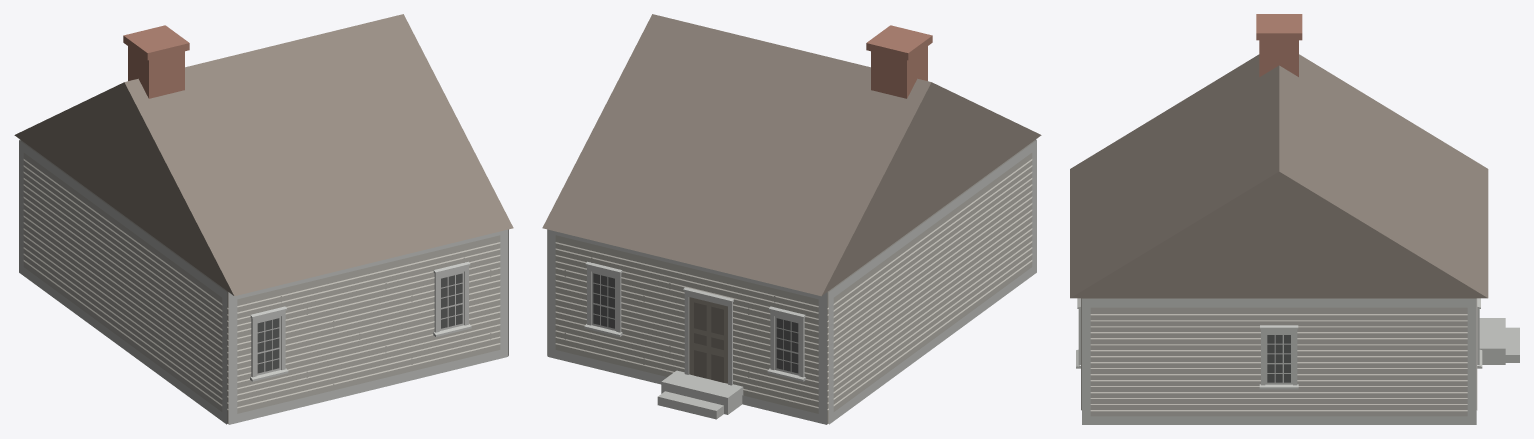
The model's file is recon_1835_blk_randolph_franklin_d4_03__inferred_1835.glb.
The picture shows the model from 3 angles, left to right: view 1: azimuth 30°, elevation 25°; view 2: azimuth 150°, elevation 25°; view 3: azimuth 270°, elevation 25°; orthographic projection. The views are drawn at different scales.
Parts seen in each view (by area): view 1: recon_1835_blk_randolph_franklin_d4_03__inferred_1835; view 2: recon_1835_blk_randolph_franklin_d4_03__inferred_1835; view 3: recon_1835_blk_randolph_franklin_d4_03__inferred_1835.
Boxes of the visible parts, x1,y1,x2,y2 form: recon_1835_blk_randolph_franklin_d4_03__inferred_1835: (14,14,513,424); recon_1835_blk_randolph_franklin_d4_03__inferred_1835: (542,14,1041,424); recon_1835_blk_randolph_franklin_d4_03__inferred_1835: (1070,14,1519,424).
Size of the model in its own units: 6.66 by 6.71 by 9.56.
